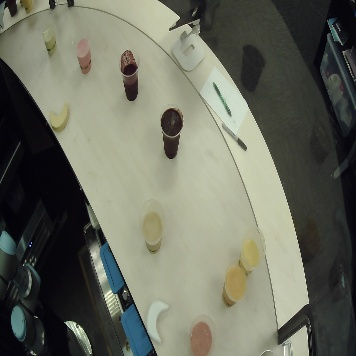full_cup: (220, 257, 251, 307), (157, 102, 184, 158), (139, 199, 166, 254), (238, 227, 268, 276), (117, 48, 141, 103), (188, 314, 215, 356), (71, 29, 93, 74), (38, 22, 59, 58), (6, 1, 18, 18), (22, 1, 33, 13)
puck: (146, 298, 171, 343), (47, 104, 72, 132)
